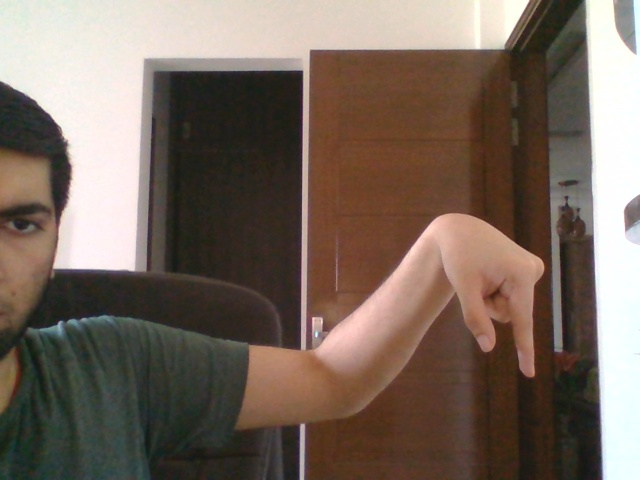LetterQ: (434, 212, 546, 384)
